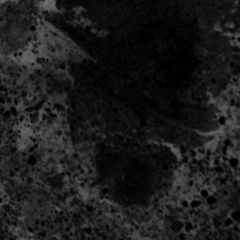Vegetation: (1, 204, 166, 238), (4, 158, 95, 204), (1, 94, 68, 155), (168, 143, 215, 195), (212, 91, 240, 169), (14, 46, 77, 64), (32, 1, 55, 49), (2, 63, 36, 91), (48, 32, 72, 49), (158, 196, 181, 210), (226, 24, 240, 46)
